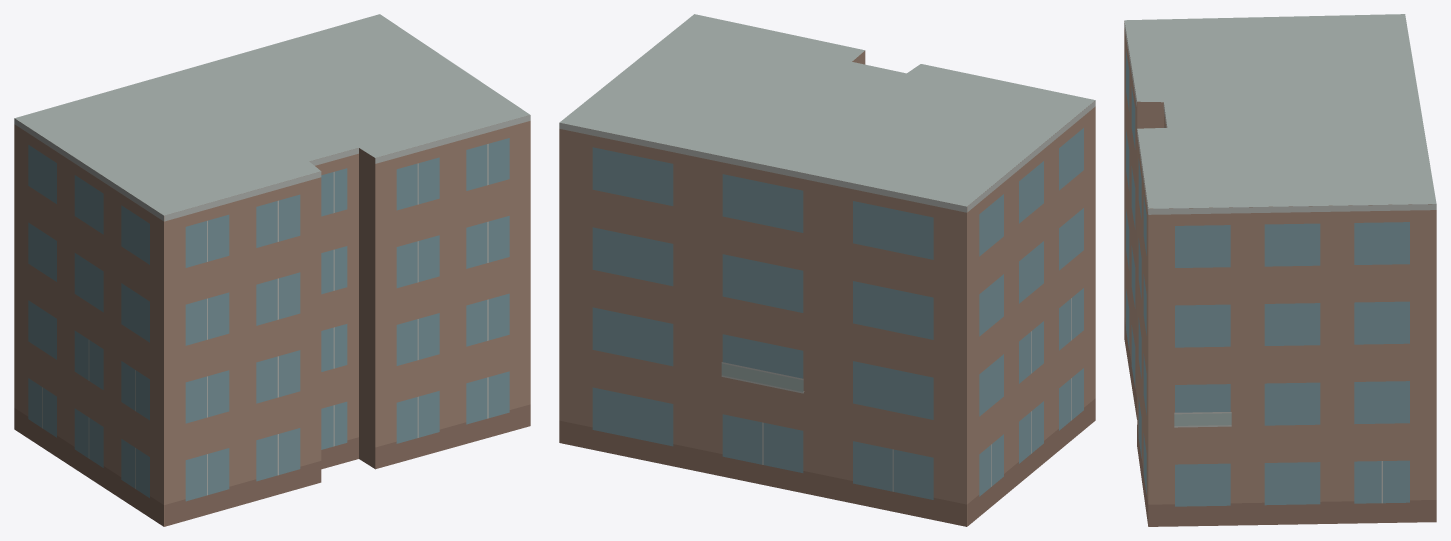
The model's file is survey-upis-32723451.glb.
3 renders of one model, left to right at view 1: azimuth 30°, elevation 25°; view 2: azimuth 150°, elevation 25°; view 3: azimuth 270°, elevation 25°, orthographic. The views are drawn at different scales.
Parts seen in each view (by area): view 1: survey-upis-32723451.tmp; view 2: survey-upis-32723451.tmp; view 3: survey-upis-32723451.tmp.
Boxes of the visible parts, x1=… form: survey-upis-32723451.tmp: x1=14, y1=14, x2=530, y2=526; survey-upis-32723451.tmp: x1=559, y1=14, x2=1095, y2=526; survey-upis-32723451.tmp: x1=1124, y1=14, x2=1436, y2=526.
Bounding box in the file's own units: 16.82 × 12.8 × 11.4.
